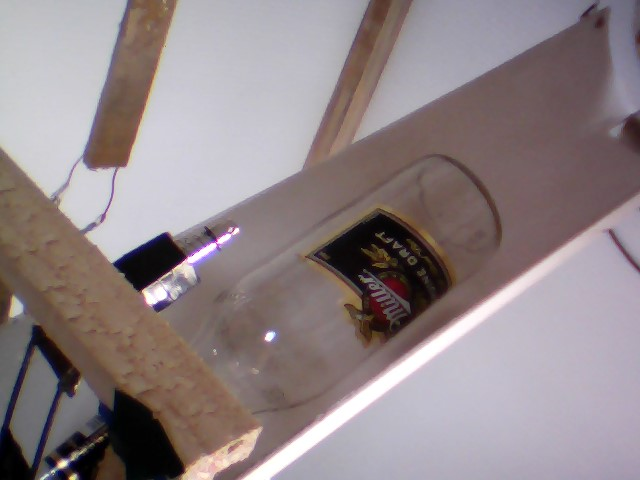vidrio: (185, 154, 512, 416)
